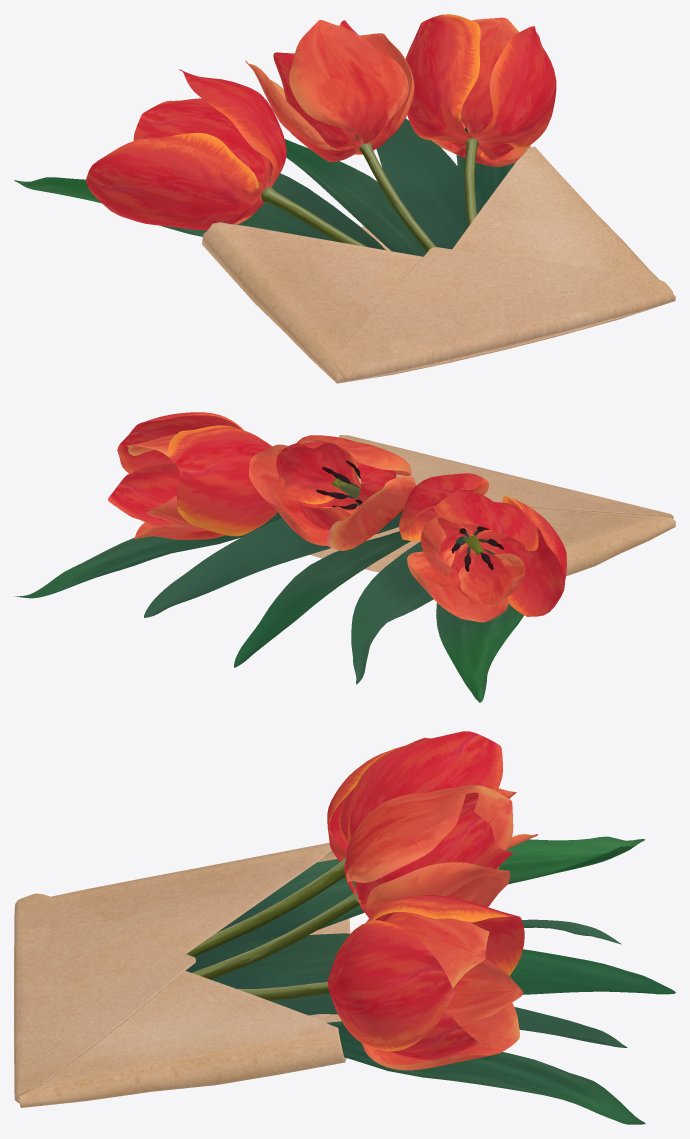
File: tulips.glb
The picture shows the model from 3 angles, top to bottom: view 1: azimuth 30°, elevation 25°; view 2: azimuth 150°, elevation 25°; view 3: azimuth 270°, elevation 25°; orthographic projection. The views are drawn at different scales.
Parts seen in each view (by area): view 1: Flowers, Plane.010, Plane.001, Petal_01; view 2: Flowers, Plane.001, Plane.010, Petal_01; view 3: Plane.010, Flowers, Plane.001, Petal_01.
Part boxes in pixels (box(x1,y1,x2,y2)): Flowers: box(86, 14, 556, 230); Plane.010: box(202, 146, 675, 383); Plane.001: box(14, 118, 515, 256); Petal_01: box(261, 127, 478, 251); Flowers: box(108, 412, 566, 622); Plane.001: box(14, 512, 523, 702); Plane.010: box(310, 435, 675, 576); Petal_01: box(316, 460, 503, 571); Plane.010: box(14, 842, 350, 1107); Flowers: box(327, 731, 537, 1070); Plane.001: box(186, 836, 675, 1124); Petal_01: box(187, 856, 362, 1000).
Bounding box in the file's own units: 2.74 × 1.07 × 2.74.
Materials: 4 (4 with a texture image).
